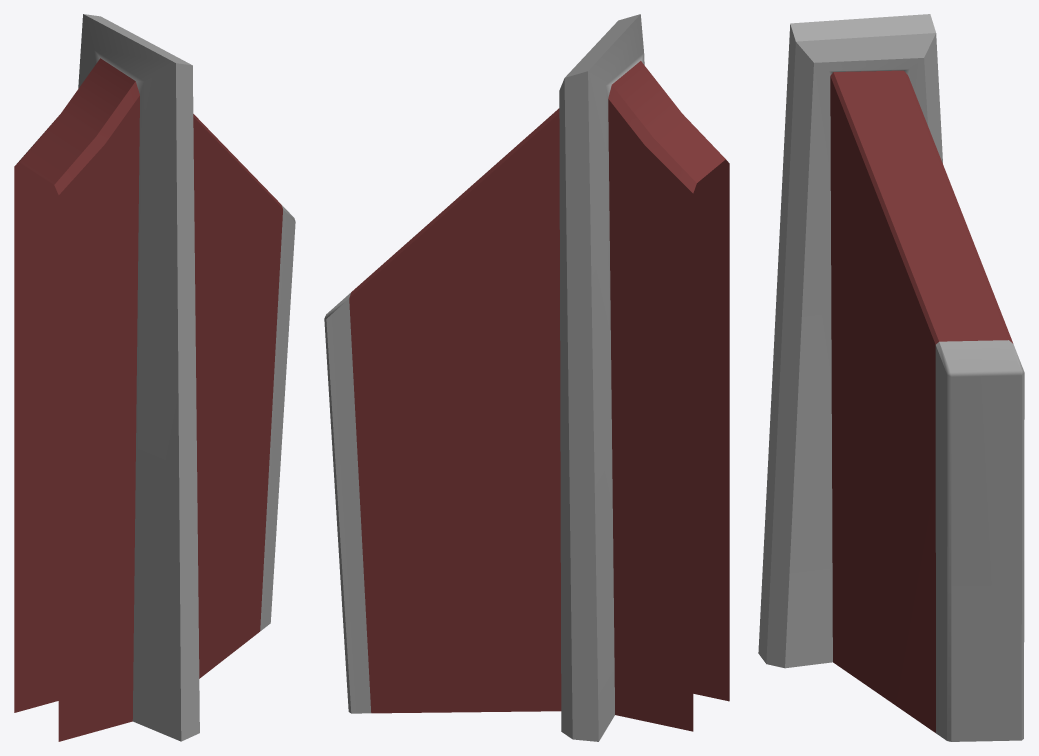
File: Background2.fbx
The picture shows the model from 3 angles, left to right: view 1: azimuth 30°, elevation 25°; view 2: azimuth 150°, elevation 25°; view 3: azimuth 270°, elevation 25°; orthographic projection. The views are drawn at different scales.
Visible parts, largest first — view 1: pCube423; view 2: pCube423; view 3: pCube423.
Part boxes in pixels (x1,y1,x2,y2): pCube423: [14, 14, 295, 741]; pCube423: [324, 14, 729, 741]; pCube423: [758, 14, 1024, 741].
Bounding box in the file's own units: 520 × 1060 × 402.
